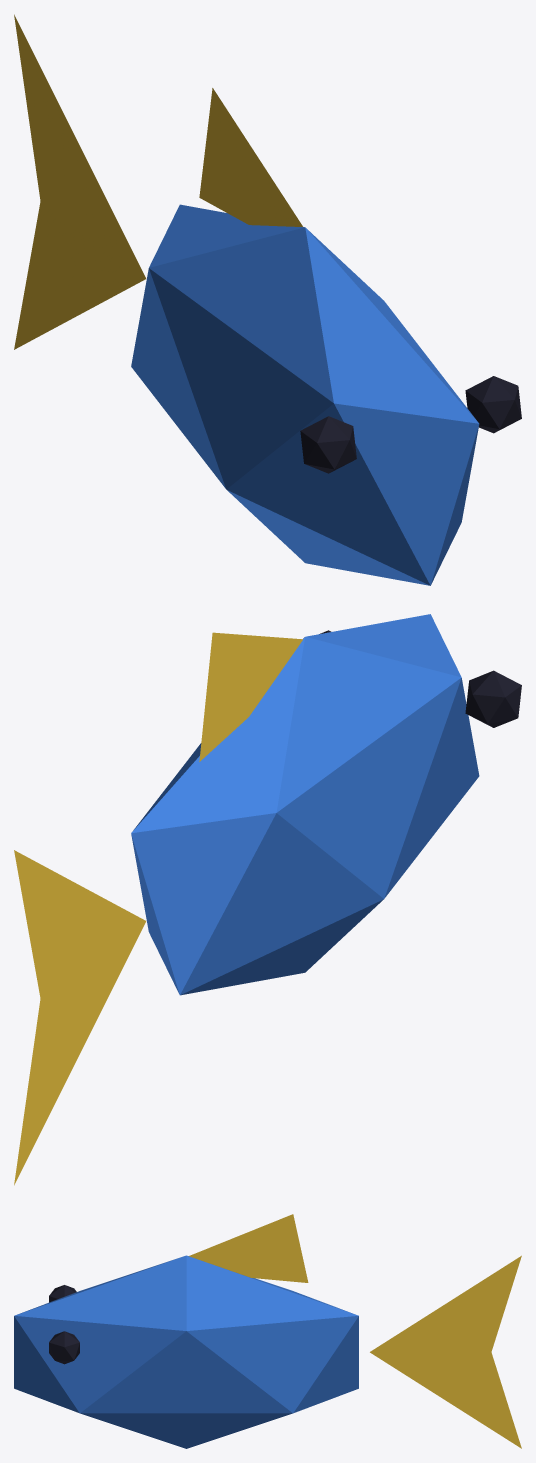
Rendered from fish.glb.
3 views of the same model, one above another, from view 1: azimuth 30°, elevation 25°; view 2: azimuth 150°, elevation 25°; view 3: azimuth 270°, elevation 25° (orthographic). The views are drawn at different scales.
Parts seen in each view (by area): view 1: fish; view 2: fish; view 3: fish.
Boxes of the visible parts, bbox=[...] form: fish: bbox=[14, 14, 521, 585]; fish: bbox=[14, 614, 521, 1185]; fish: bbox=[14, 1214, 521, 1448].
Bounding box in the file's own units: 0.0935 × 0.17 × 0.3331.
